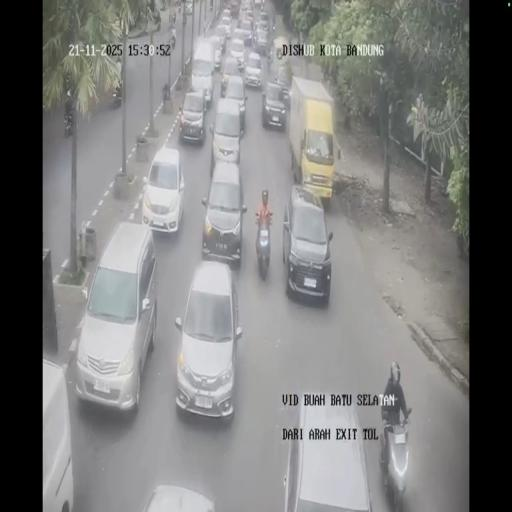car: (74, 221, 158, 408), (174, 259, 242, 417), (282, 184, 332, 303), (200, 163, 246, 268), (142, 145, 186, 235), (209, 96, 244, 164), (178, 89, 208, 144), (262, 79, 286, 129), (220, 58, 242, 100), (244, 52, 262, 90), (208, 34, 222, 69), (230, 36, 245, 64), (254, 19, 268, 44), (240, 18, 252, 44), (220, 18, 232, 42), (254, 0, 264, 11)
motorcycle: (255, 218, 271, 278), (64, 108, 74, 136), (112, 90, 122, 108), (170, 28, 176, 48), (181, 6, 187, 24), (267, 45, 272, 65), (170, 8, 176, 24), (177, 3, 181, 13)
truck: (288, 76, 337, 206), (273, 36, 287, 65), (228, 0, 239, 16)
